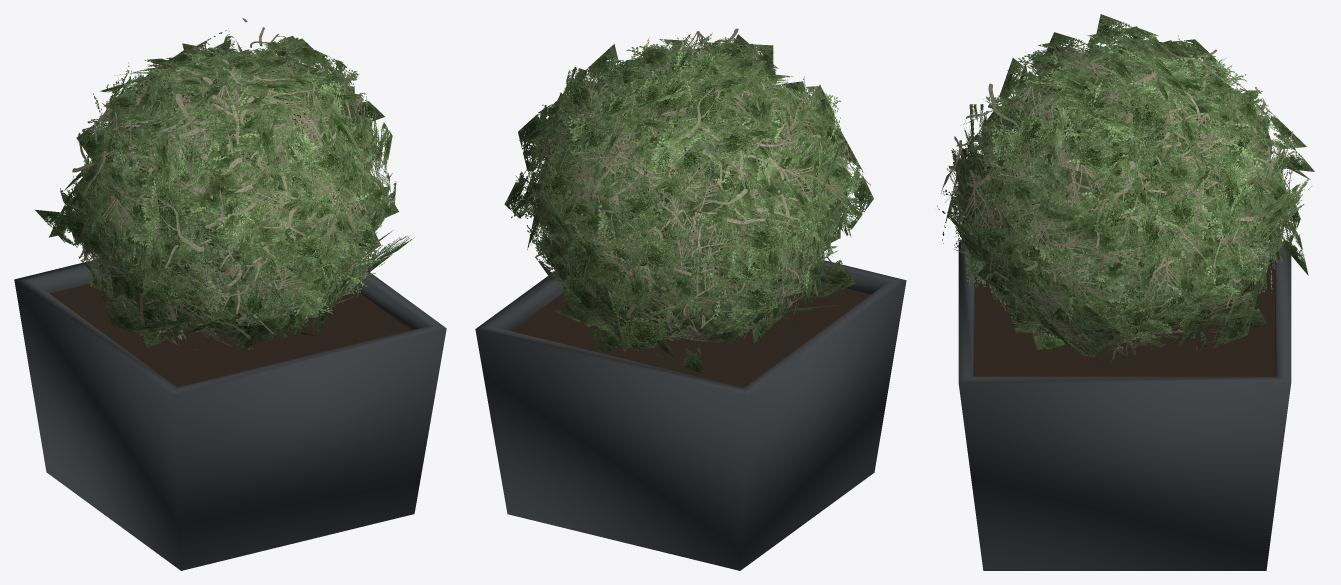
Rendered from planter.glb.
3 views of the same model, side by side, from view 1: azimuth 30°, elevation 25°; view 2: azimuth 150°, elevation 25°; view 3: azimuth 270°, elevation 25° (orthographic). The views are drawn at different scales.
Visible parts, largest first — view 1: planter; view 2: planter; view 3: planter.
Part boxes in pixels (x1,y1,x2,y2): planter: [14, 18, 446, 570]; planter: [475, 28, 906, 570]; planter: [937, 14, 1314, 570].
Size of the model in its own units: 1.09 by 1.47 by 1.11.
3 materials, 1 textured.
